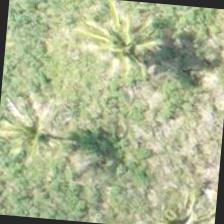Kelapa_Sawit: (77, 0, 175, 93), (0, 85, 82, 183)
